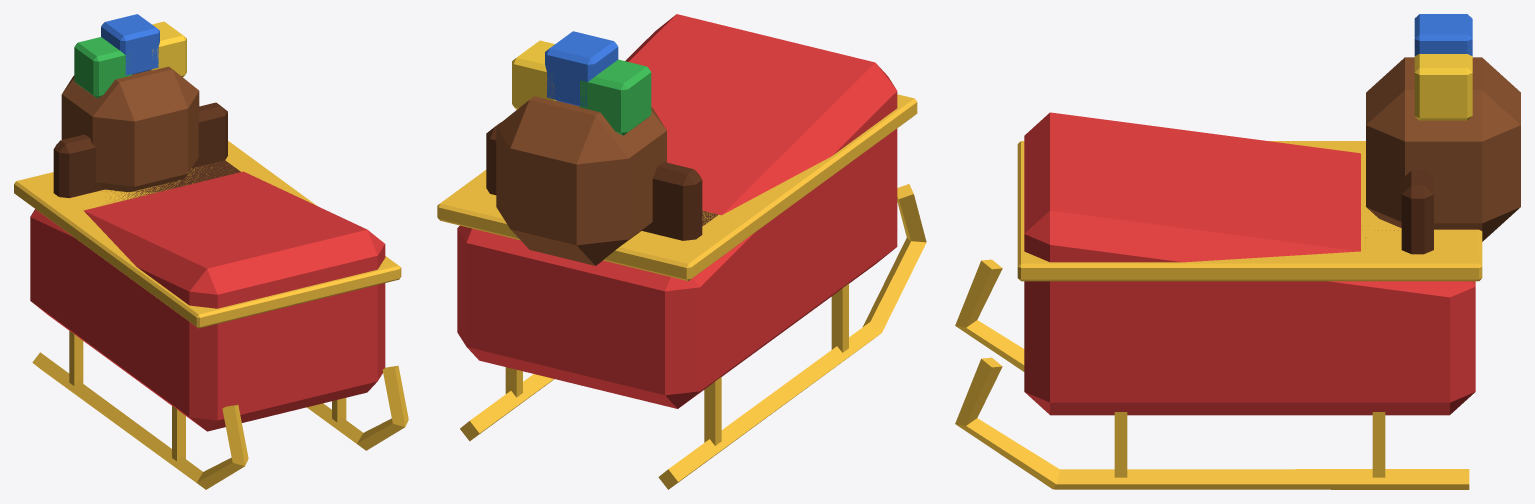
File: SantaSleigh.fbx
The picture shows the model from 3 angles, left to right: view 1: azimuth 30°, elevation 25°; view 2: azimuth 150°, elevation 25°; view 3: azimuth 270°, elevation 25°; orthographic projection. The views are drawn at different scales.
Visible parts, largest first — view 1: SantaSleigh, SantaSleigh_Sack, SantaSleigh_Runners; view 2: SantaSleigh, SantaSleigh_Sack, SantaSleigh_Runners; view 3: SantaSleigh, SantaSleigh_Sack, SantaSleigh_Runners.
Part boxes in pixels (x1=…): SantaSleigh: x1=14, y1=102, x2=401, y2=431; SantaSleigh_Sack: x1=61, y1=14, x2=199, y2=192; SantaSleigh_Runners: x1=32, y1=330, x2=408, y2=489; SantaSleigh: x1=437, y1=14, x2=917, y2=408; SantaSleigh_Sack: x1=496, y1=31, x2=666, y2=265; SantaSleigh_Runners: x1=460, y1=184, x2=926, y2=489; SantaSleigh: x1=1017, y1=112, x2=1482, y2=415; SantaSleigh_Sack: x1=1366, y1=14, x2=1520, y2=241; SantaSleigh_Runners: x1=955, y1=259, x2=1469, y2=489.
Bounding box in the file's own units: 4.6 × 7.13 × 8.77.
Materials: 1 (1 with a texture image).
